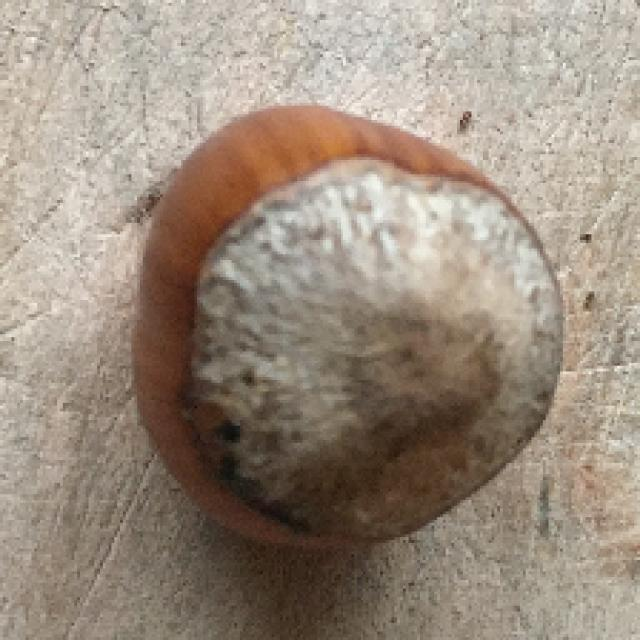qualityHazelnut: (136, 95, 570, 568)
